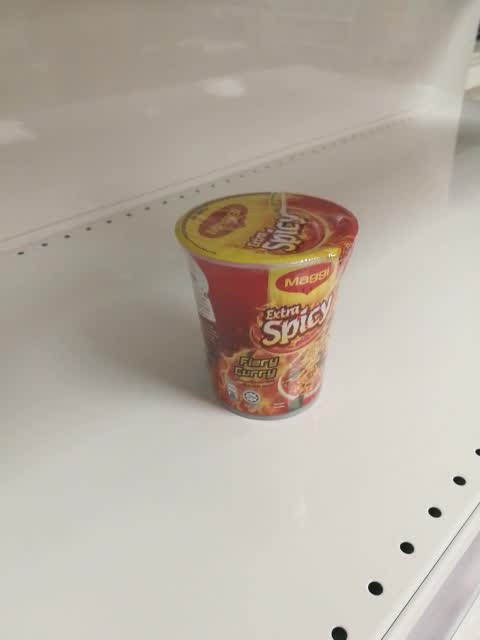maggi: (172, 190, 361, 421)
